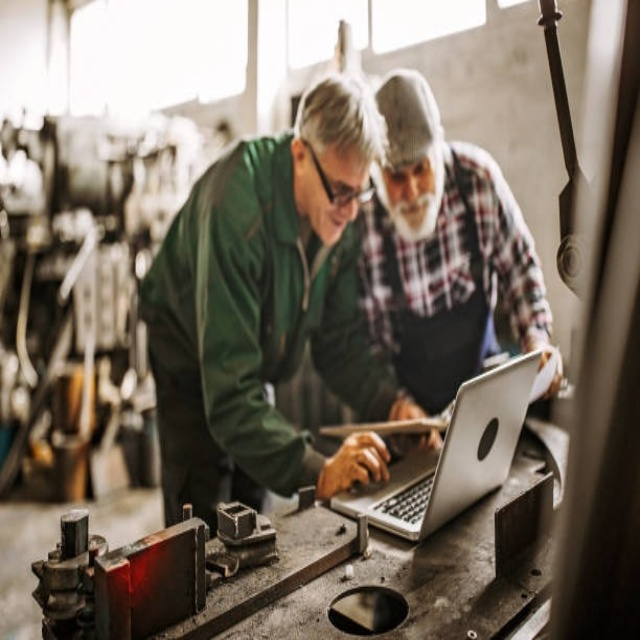Gafas: (303, 138, 374, 209)
Sin_guantes: (317, 431, 392, 501), (388, 394, 439, 451), (531, 343, 565, 400)
Sin_mascara: (321, 205, 357, 246), (399, 193, 432, 235)
